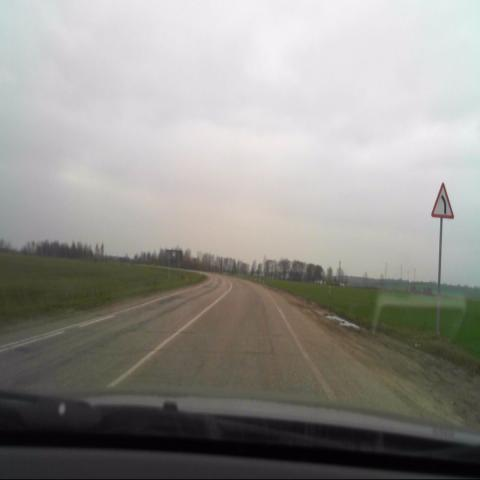1_11_1: (431, 181, 454, 218)
